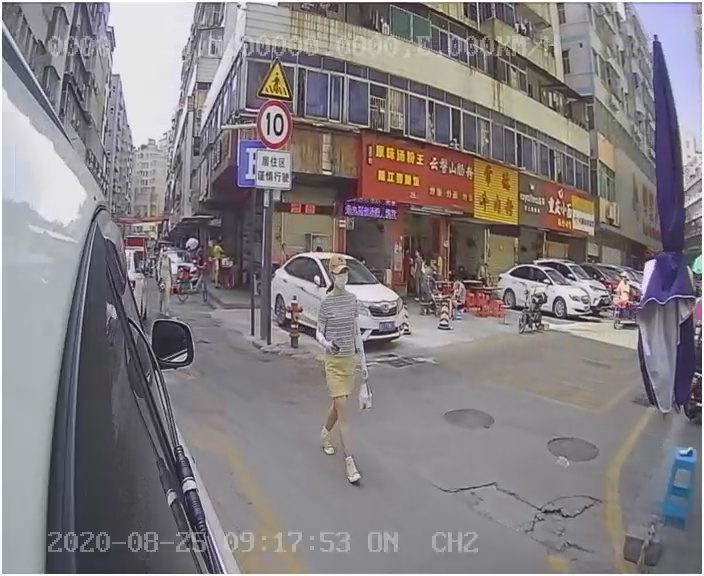person: (300, 254, 388, 489)
